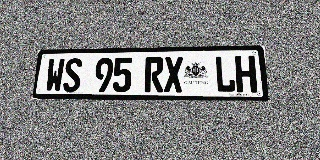5: (113, 57, 132, 92)
9: (94, 58, 114, 92)
H: (235, 56, 257, 93)
L: (214, 56, 236, 93)
R: (144, 57, 164, 92)
S: (62, 58, 83, 92)
W: (45, 58, 65, 92)
X: (164, 57, 183, 92)
